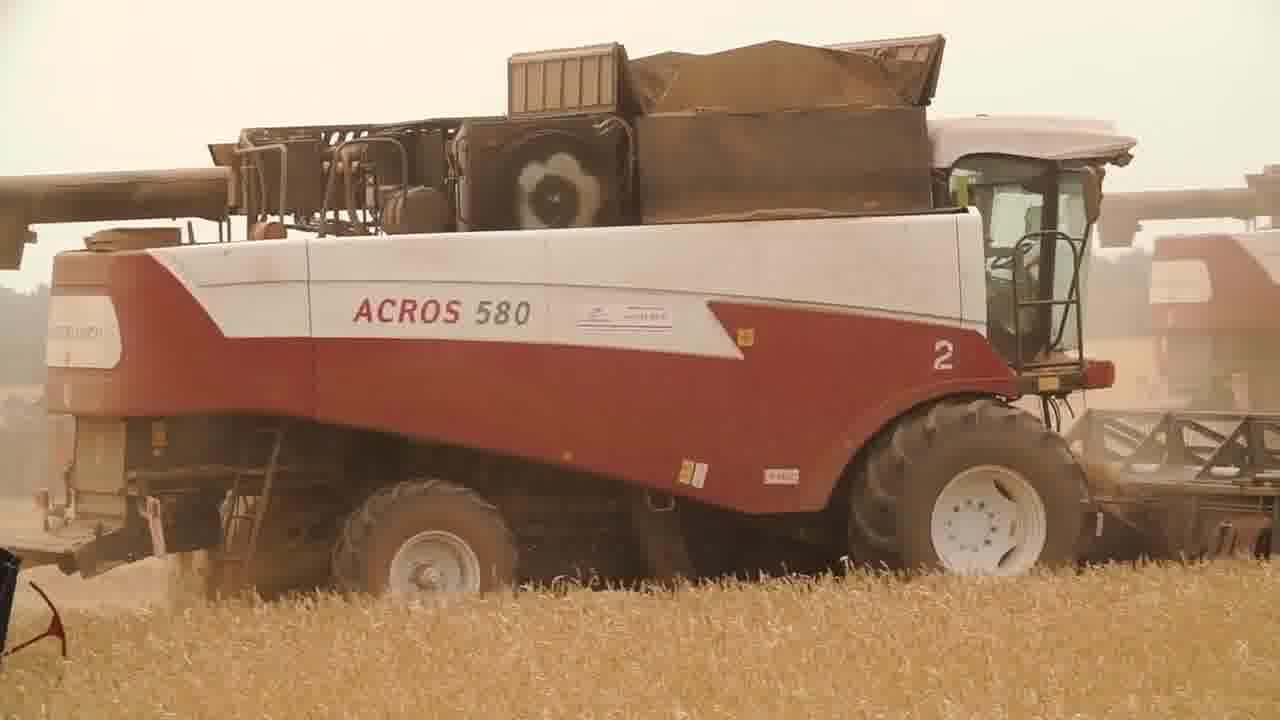combine harvester: (8, 14, 1280, 624)
